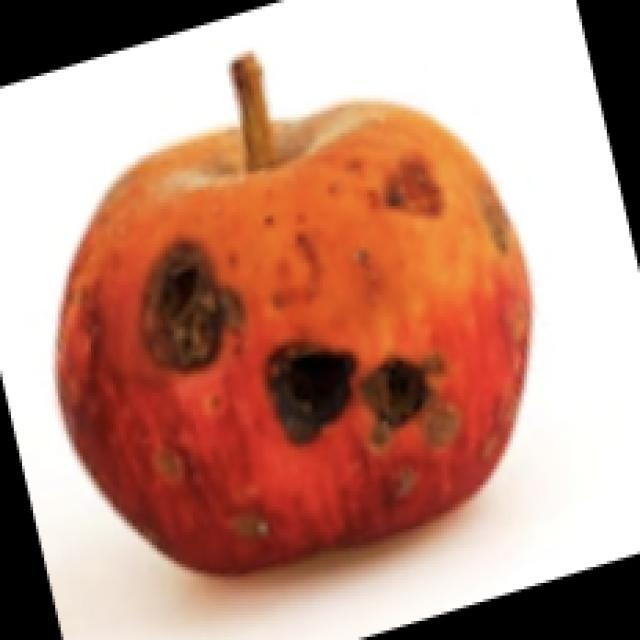Rotten: (74, 109, 528, 564)
